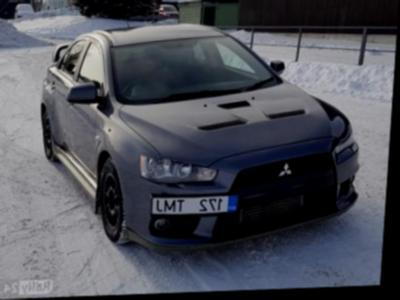License_Plate: (152, 197, 237, 214)
